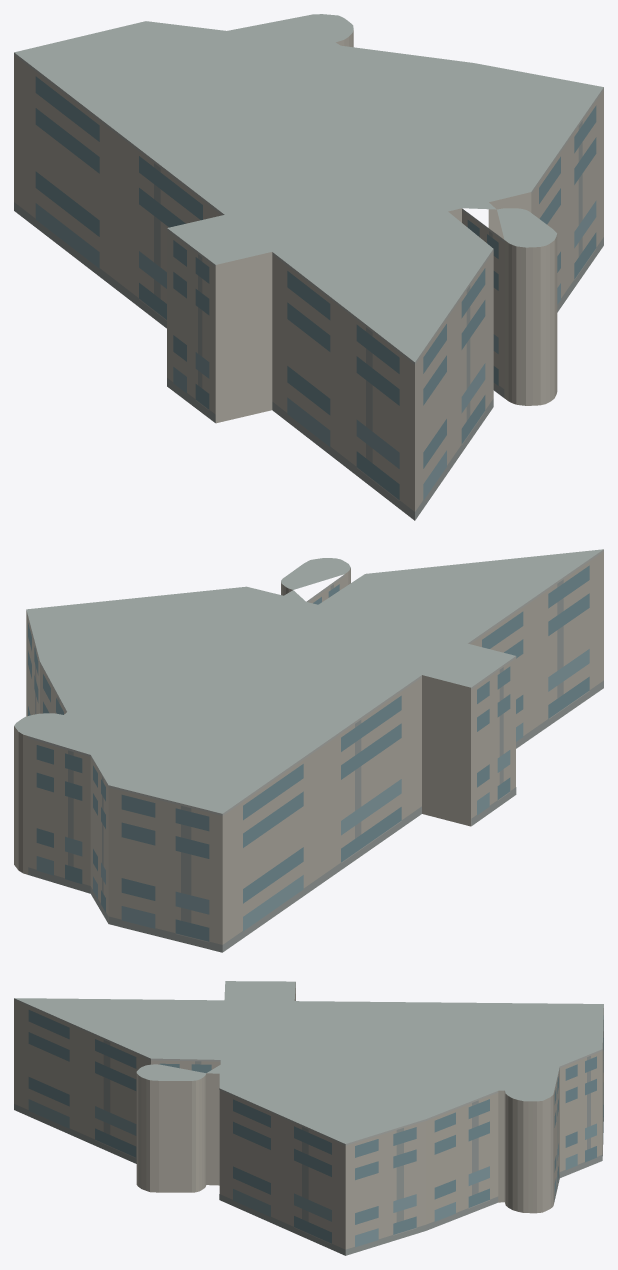
Rendered from survey-upis-32843688.glb.
3 renders of one model, top to bottom at view 1: azimuth 30°, elevation 25°; view 2: azimuth 150°, elevation 25°; view 3: azimuth 270°, elevation 25°, orthographic. The views are drawn at different scales.
Parts seen in each view (by area): view 1: survey-upis-32843688.tmp; view 2: survey-upis-32843688.tmp; view 3: survey-upis-32843688.tmp.
Part boxes in pixels (x1,y1,x2,y2): survey-upis-32843688.tmp: (14,14,603,520); survey-upis-32843688.tmp: (14,549,603,952); survey-upis-32843688.tmp: (14,981,603,1255).
Bounding box in the file's own units: 47.7 × 15.25 × 72.95.
